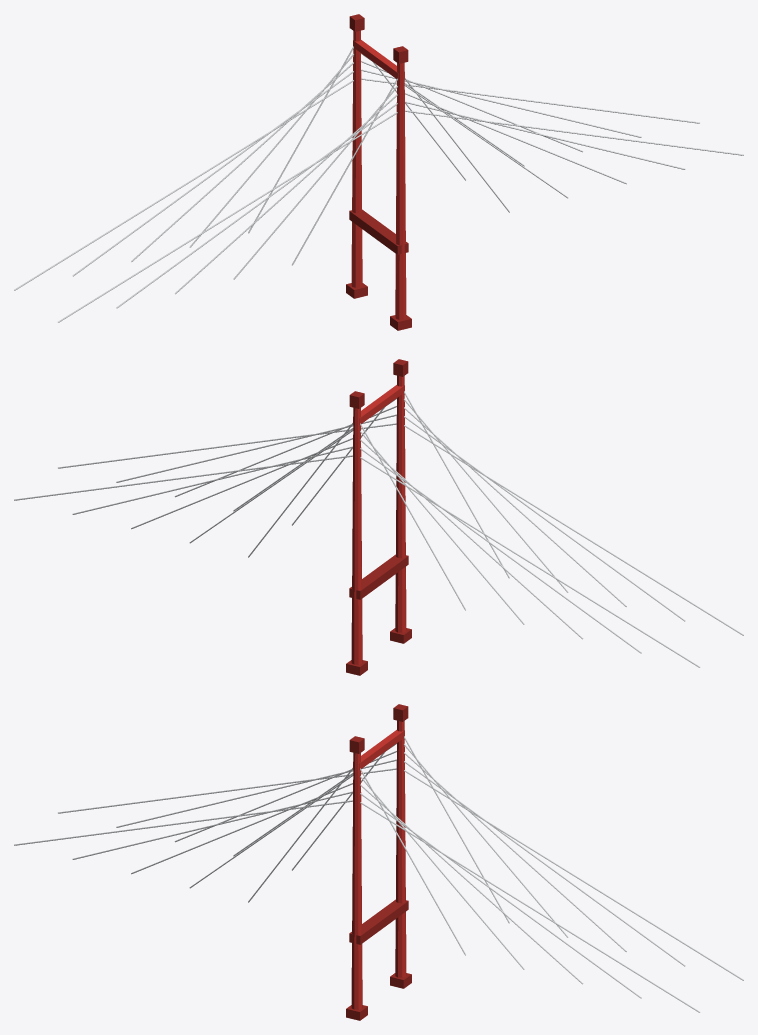
File: willemsbrug.glb
3 views of the same model, one above another, from view 1: azimuth 30°, elevation 25°; view 2: azimuth 150°, elevation 25°; view 3: azimuth 330°, elevation 25° (orthographic).
Visible parts, largest first — view 1: pyloon-1, pyloon1, dwarsbalk, tui-15-1, tui15-1, tui-151, tui151, tui-14-1, tui14-1, bovenbalk, tui-141, tui-13-1 (+2 smaller); view 2: pyloon1, pyloon-1, dwarsbalk, tui-15-1, tui15-1, tui151, tui-151, tui14-1, tui-14-1, bovenbalk, tui141, tui13-1 (+2 smaller); view 3: pyloon-1, pyloon1, dwarsbalk, tui-151, tui151, tui-15-1, tui15-1, tui-141, tui141, bovenbalk, tui-14-1, tui-131 (+2 smaller).
Part boxes in pixels (box(x1,y1,x2,y2)): pyloon-1: box(395, 62, 406, 319); pyloon1: box(351, 30, 362, 287); dwarsbalk: box(349, 209, 408, 254); tui-15-1: box(58, 112, 397, 322); tui15-1: box(14, 80, 353, 290); tui-151: box(405, 110, 743, 155); tui151: box(361, 78, 699, 123); tui-14-1: box(116, 103, 397, 308); tui14-1: box(72, 71, 353, 276); bovenbalk: box(353, 40, 404, 80); tui-141: box(405, 101, 685, 169); tui-13-1: box(175, 94, 397, 294); pyloon1: box(351, 407, 362, 664); pyloon-1: box(395, 375, 406, 632); dwarsbalk: box(349, 554, 408, 599); tui-15-1: box(404, 425, 743, 635); tui15-1: box(360, 457, 699, 667); tui151: box(14, 455, 352, 500); tui-151: box(58, 423, 396, 468); tui14-1: box(360, 448, 641, 653); tui-14-1: box(404, 416, 685, 621); bovenbalk: box(353, 385, 404, 425); tui141: box(72, 446, 352, 514); tui13-1: box(360, 439, 582, 639); pyloon-1: box(351, 752, 362, 1009); pyloon1: box(395, 720, 406, 977); dwarsbalk: box(349, 899, 408, 944); tui-151: box(360, 802, 699, 1012); tui151: box(404, 770, 743, 980); tui-15-1: box(14, 800, 352, 845); tui15-1: box(58, 768, 396, 813); tui-141: box(360, 793, 641, 998); tui141: box(404, 761, 685, 966); bovenbalk: box(353, 730, 404, 770); tui-14-1: box(72, 791, 352, 859); tui-131: box(360, 784, 582, 984).
Bounding box in the file's own units: 246 × 95 × 32.2.
